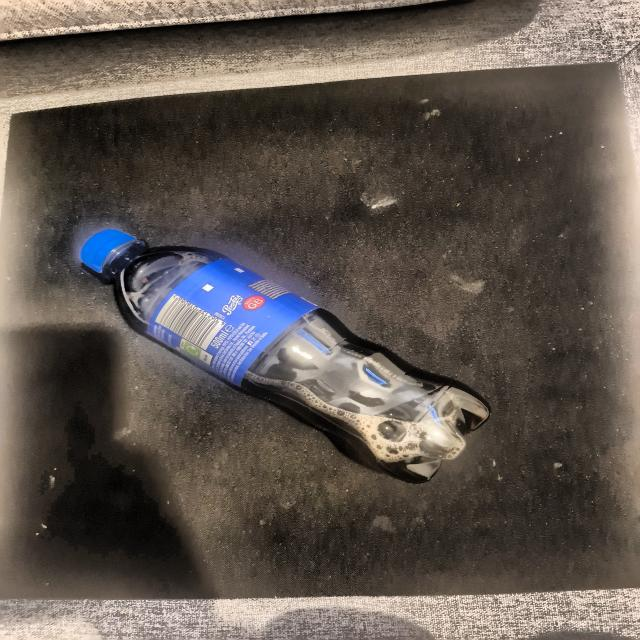pepsi-bottle: (76, 221, 487, 481)
